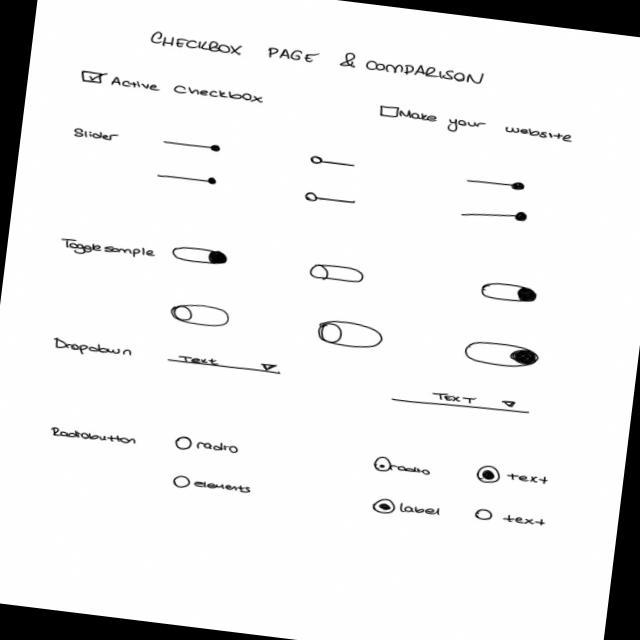checkbox: (376, 104, 578, 150), (80, 69, 267, 107)
label: (148, 30, 487, 88), (60, 236, 159, 264), (52, 337, 136, 363), (49, 425, 138, 448), (71, 127, 123, 146)
radio: (474, 464, 553, 492), (170, 474, 255, 500), (369, 495, 443, 523), (172, 434, 242, 459), (472, 507, 548, 530), (371, 456, 435, 480)
select: (391, 386, 534, 420), (165, 350, 285, 377)
slider: (457, 204, 530, 227), (155, 169, 220, 188), (465, 175, 529, 194), (162, 137, 223, 155), (304, 191, 360, 209), (309, 155, 357, 171)
toggle: (460, 338, 542, 373), (314, 317, 388, 353), (167, 300, 232, 331), (477, 279, 541, 307), (171, 244, 231, 269), (308, 262, 366, 286)
